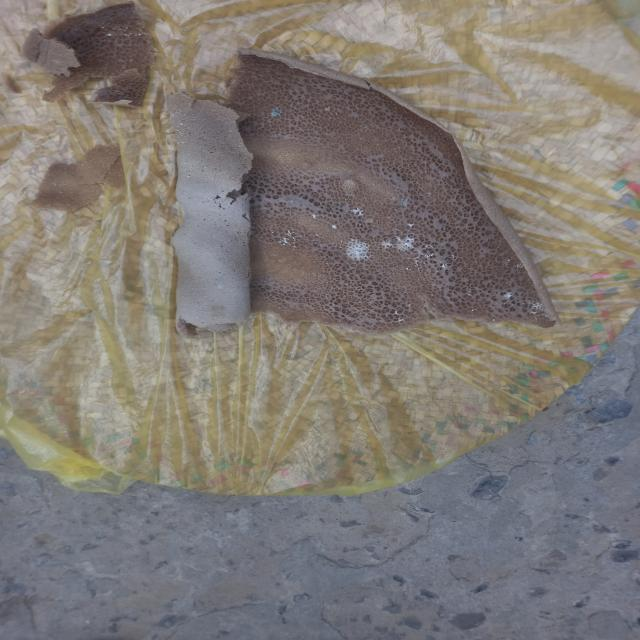injera_mold: (277, 228, 303, 253), (345, 237, 371, 261), (267, 104, 291, 124), (383, 238, 418, 250), (525, 301, 548, 317), (411, 254, 427, 271), (174, 122, 184, 146), (505, 260, 526, 271), (306, 211, 321, 224), (347, 207, 365, 216), (395, 309, 405, 325), (446, 250, 460, 260), (434, 263, 451, 271), (398, 197, 410, 208), (216, 282, 227, 294), (424, 242, 436, 252), (502, 290, 513, 300), (403, 222, 418, 228), (330, 222, 339, 232), (171, 111, 176, 122), (404, 266, 412, 272), (466, 291, 474, 297), (407, 302, 413, 309), (531, 317, 539, 322), (271, 228, 274, 240), (471, 308, 479, 312), (430, 293, 434, 299), (491, 318, 495, 322), (315, 234, 319, 237), (187, 176, 189, 178)
